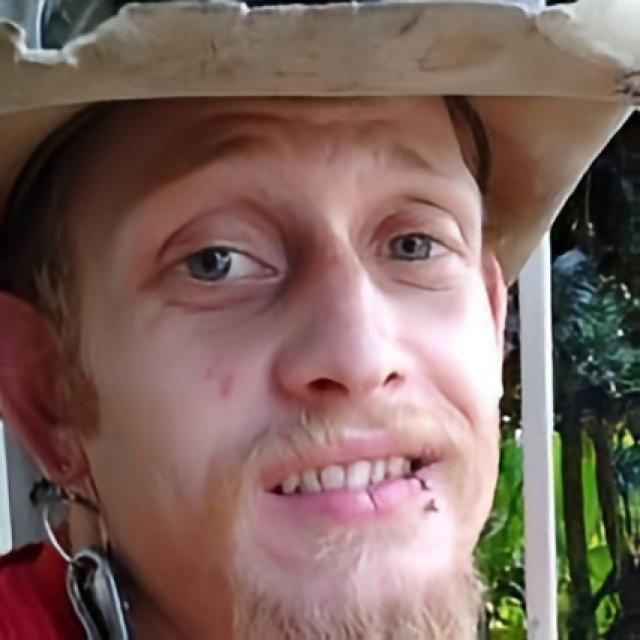sad: (81, 110, 496, 624)
